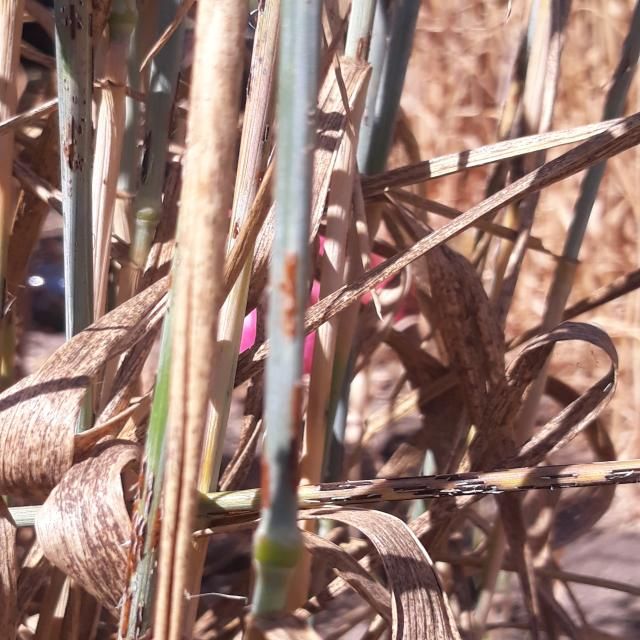black_stem_rust: (0, 0, 420, 640), (428, 91, 640, 640)
